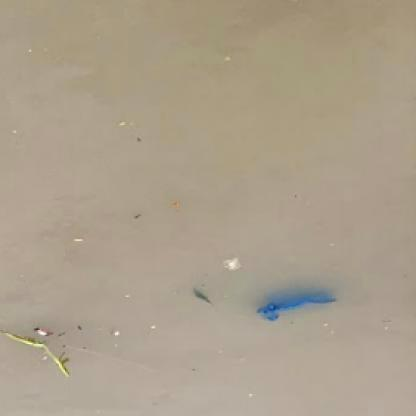Trash: (260, 284, 340, 326)
